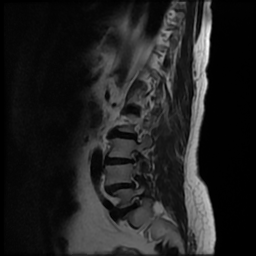LFS3: (122, 145, 146, 170)
